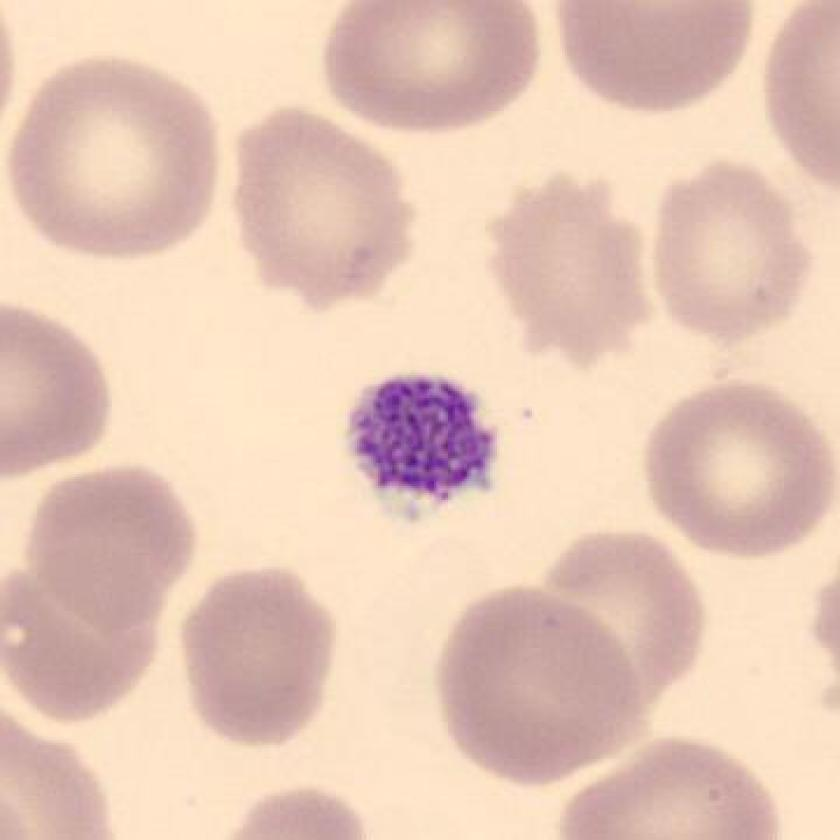platelets: (344, 371, 505, 522)
